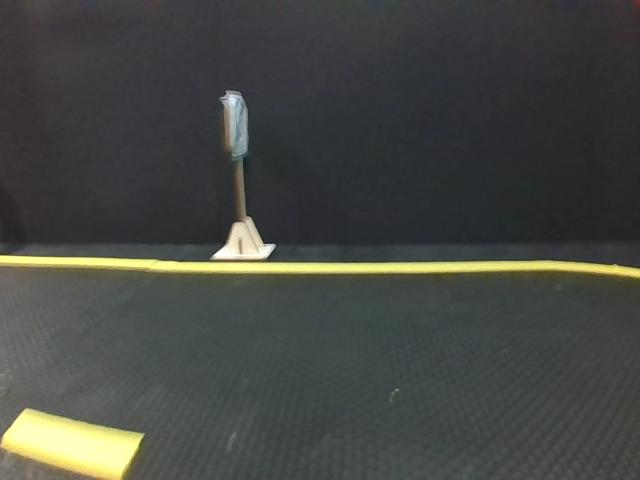no30: (226, 92, 249, 154)
